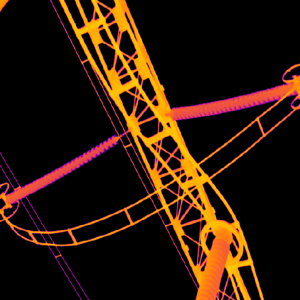insulator: (5, 133, 121, 206), (168, 80, 298, 122)
